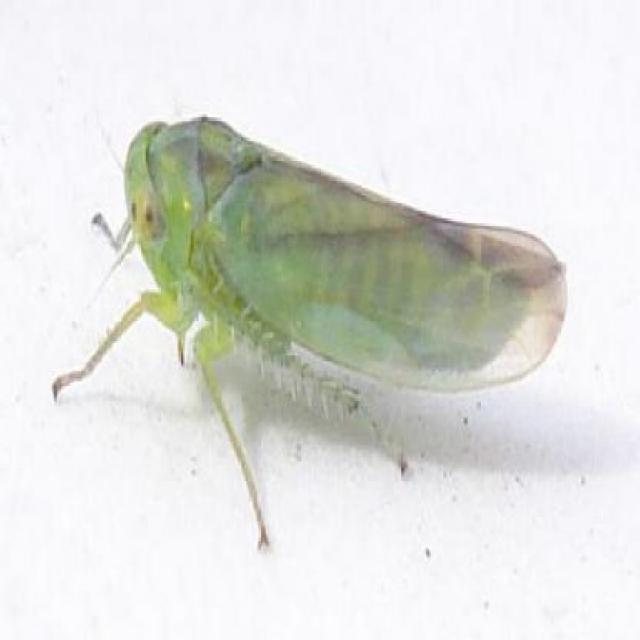green-leafhopper: (51, 113, 565, 548)
